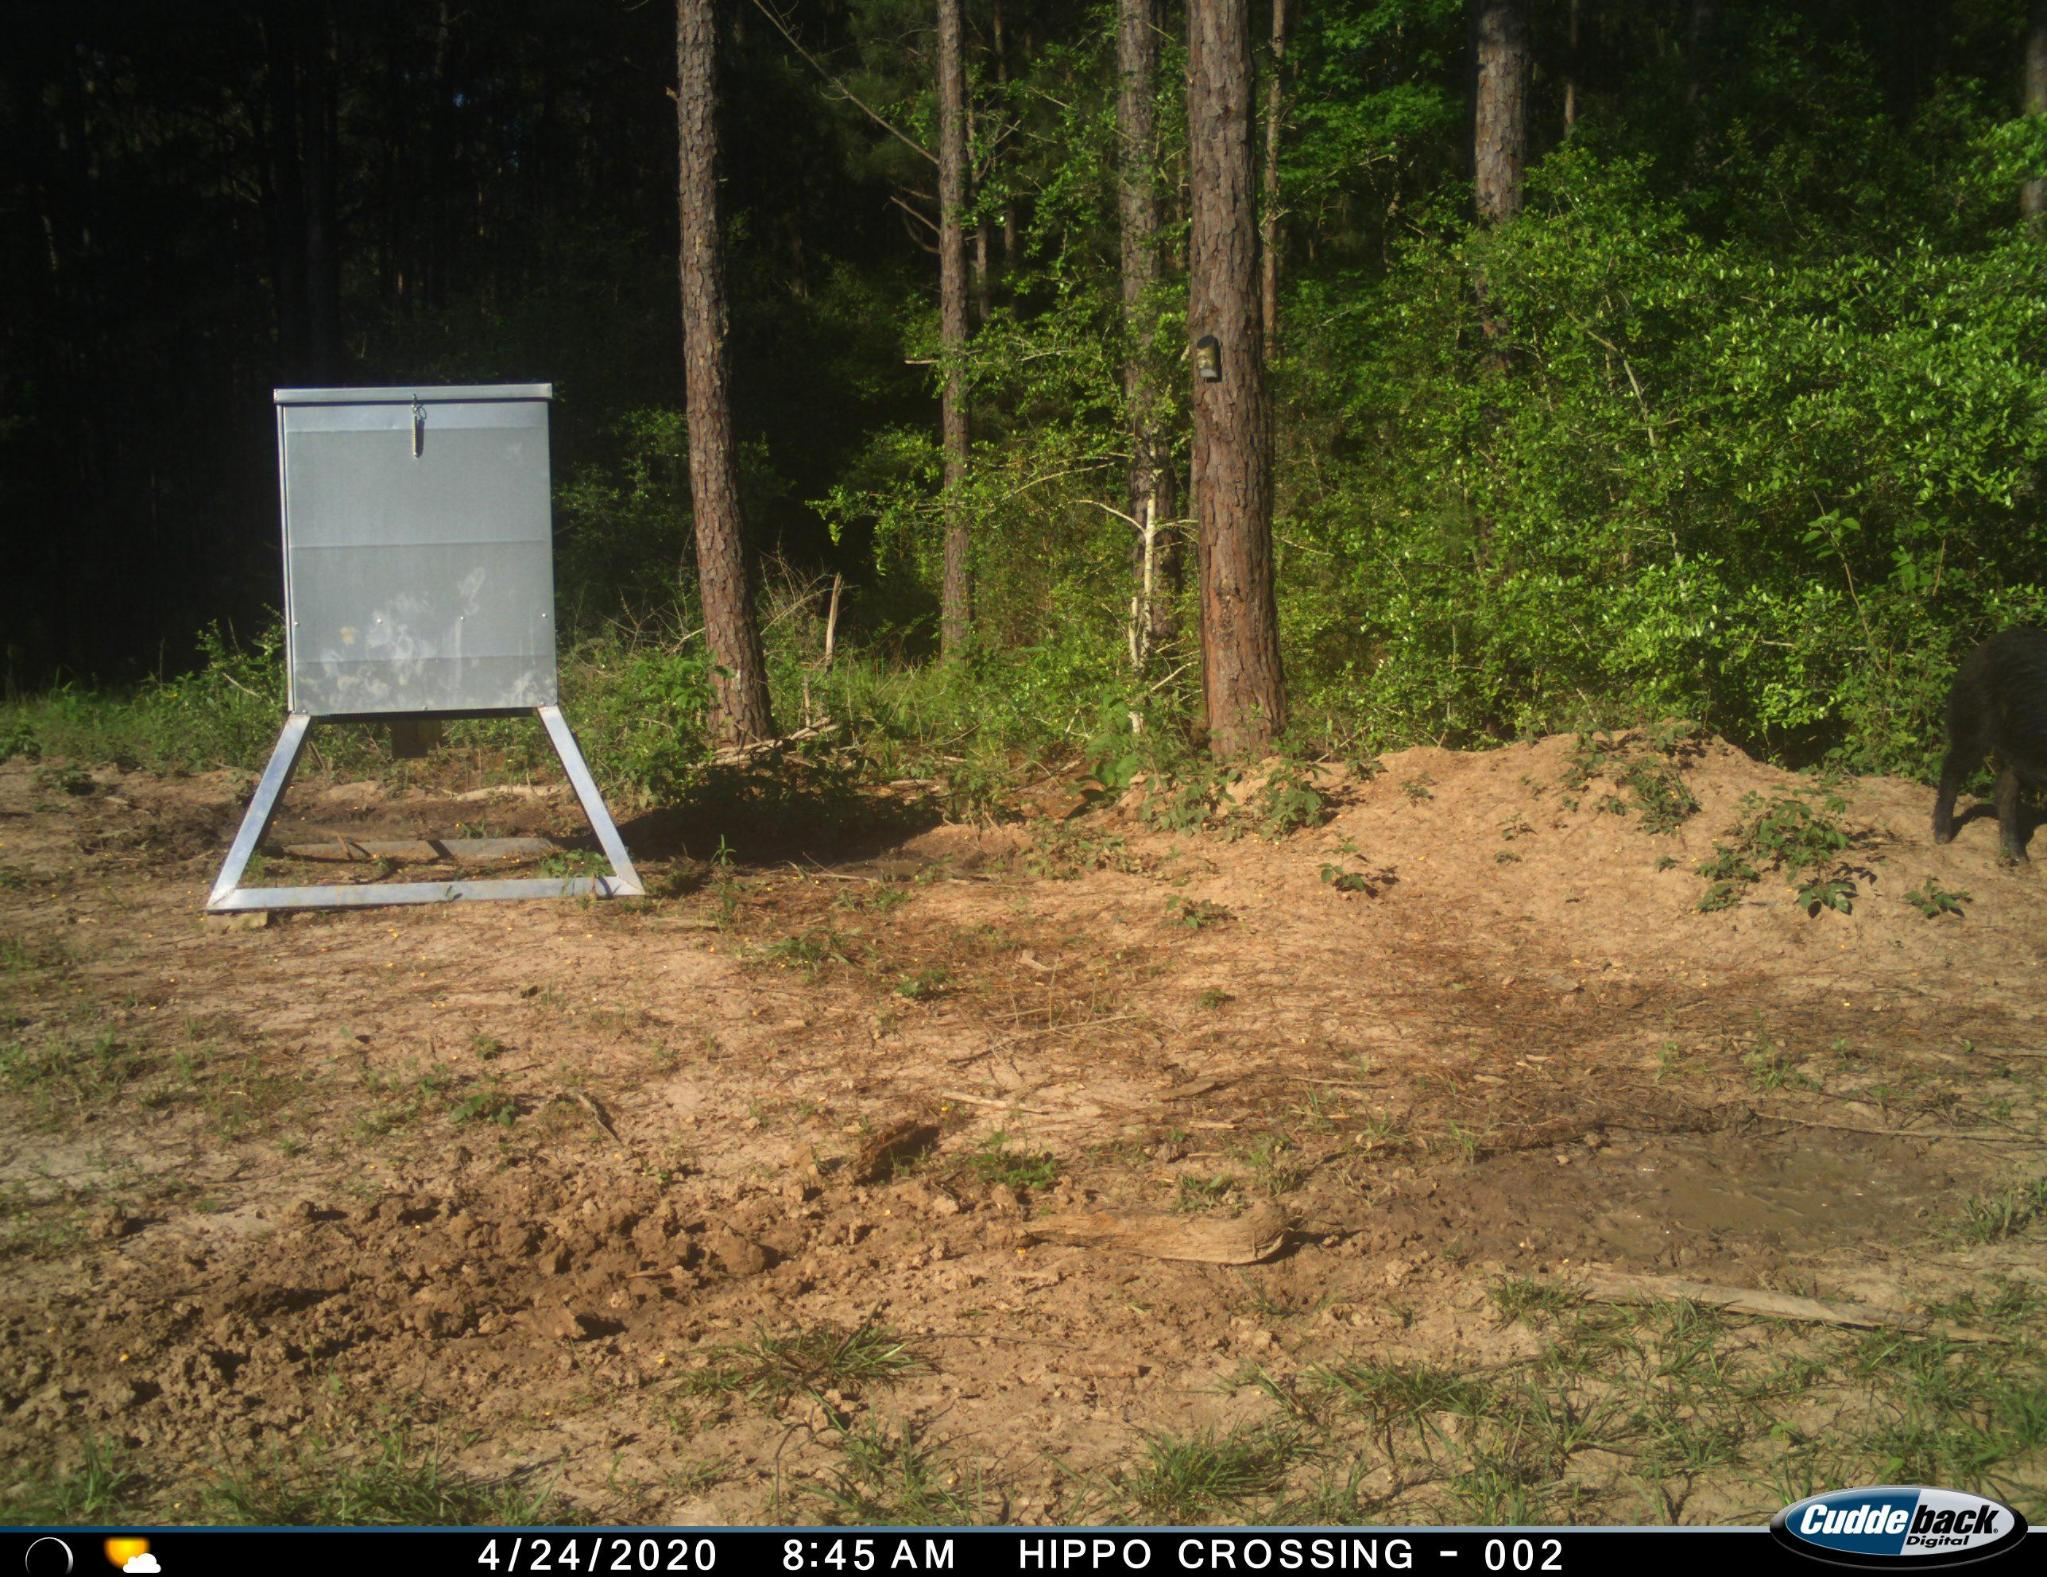Hog: (1929, 613, 2045, 876)
